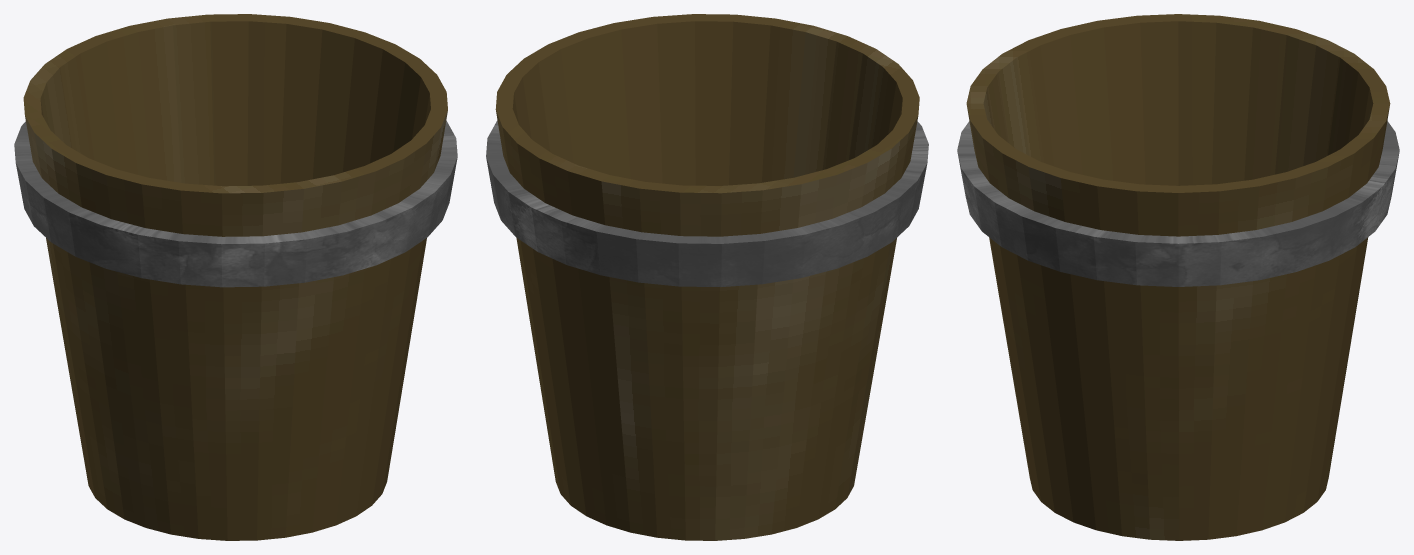
Rendered from Bucket2.glb.
3 views of the same model, side by side, from view 1: azimuth 30°, elevation 25°; view 2: azimuth 150°, elevation 25°; view 3: azimuth 270°, elevation 25° (orthographic).
Visible parts, largest first — view 1: Cylinder; view 2: Cylinder; view 3: Cylinder.
Boxes of the visible parts, <box> form: Cylinder: <box>14,14,457,540</box>; Cylinder: <box>486,14,928,540</box>; Cylinder: <box>957,14,1399,540</box>.
Size of the model in its own units: 0.6525 by 0.6071 by 0.6525.
Materials: 2 (2 with a texture image).
